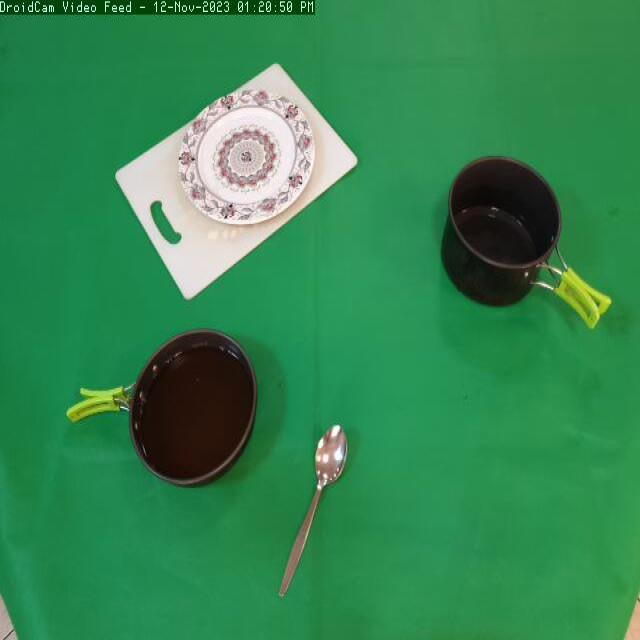cutting board: (114, 56, 367, 304)
fullpan: (55, 322, 258, 499)
plate: (177, 88, 315, 229)
pot: (432, 150, 616, 338)
spoon: (269, 418, 354, 604)
